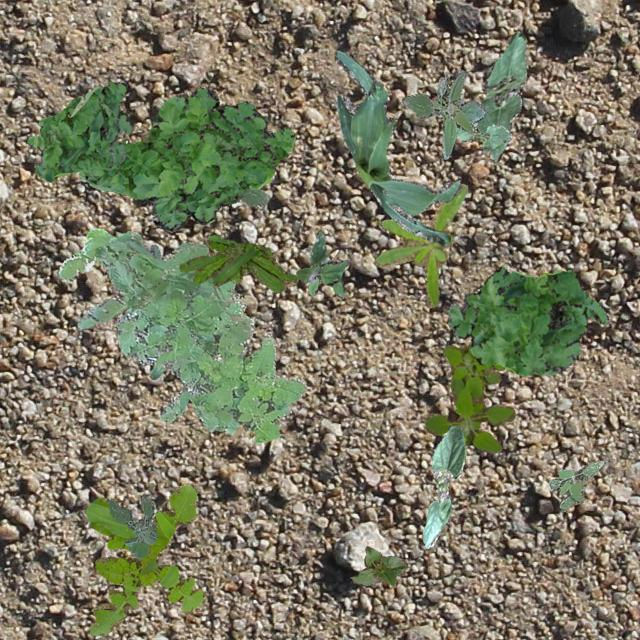crop: (334, 49, 461, 244), (476, 30, 526, 162), (124, 238, 164, 378), (422, 424, 464, 548), (350, 546, 406, 586), (456, 120, 510, 150)
weed: (94, 245, 306, 442), (78, 86, 294, 230), (86, 484, 204, 634), (447, 266, 608, 374), (58, 228, 208, 328), (374, 182, 466, 306), (26, 81, 130, 180), (424, 342, 514, 452), (400, 68, 486, 158), (178, 234, 298, 292), (296, 230, 348, 296), (108, 494, 156, 556), (548, 460, 604, 510), (240, 187, 268, 206)
